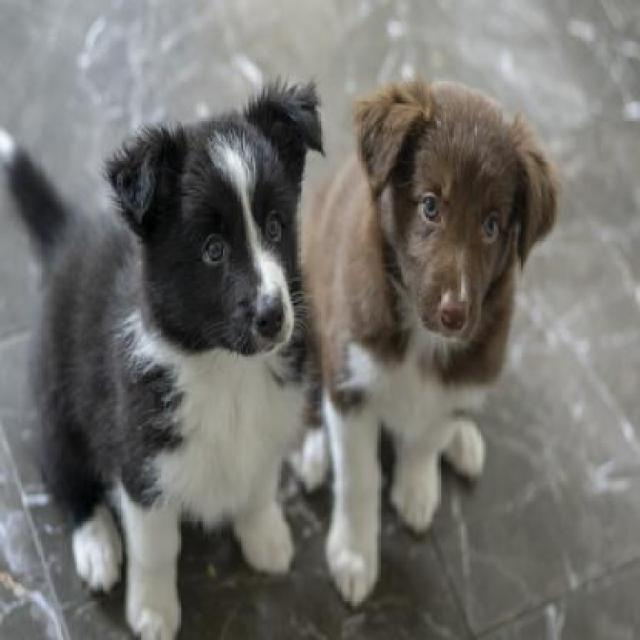animals: (59, 76, 318, 587), (330, 77, 558, 595)
